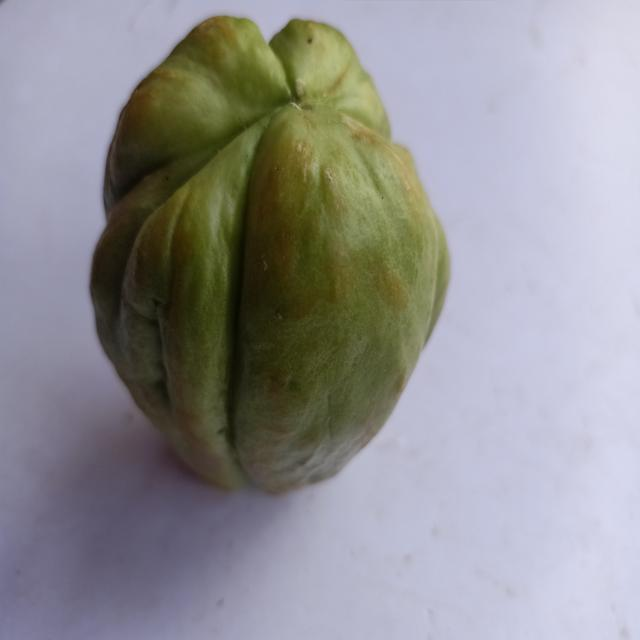Chayote: (82, 7, 478, 511)
